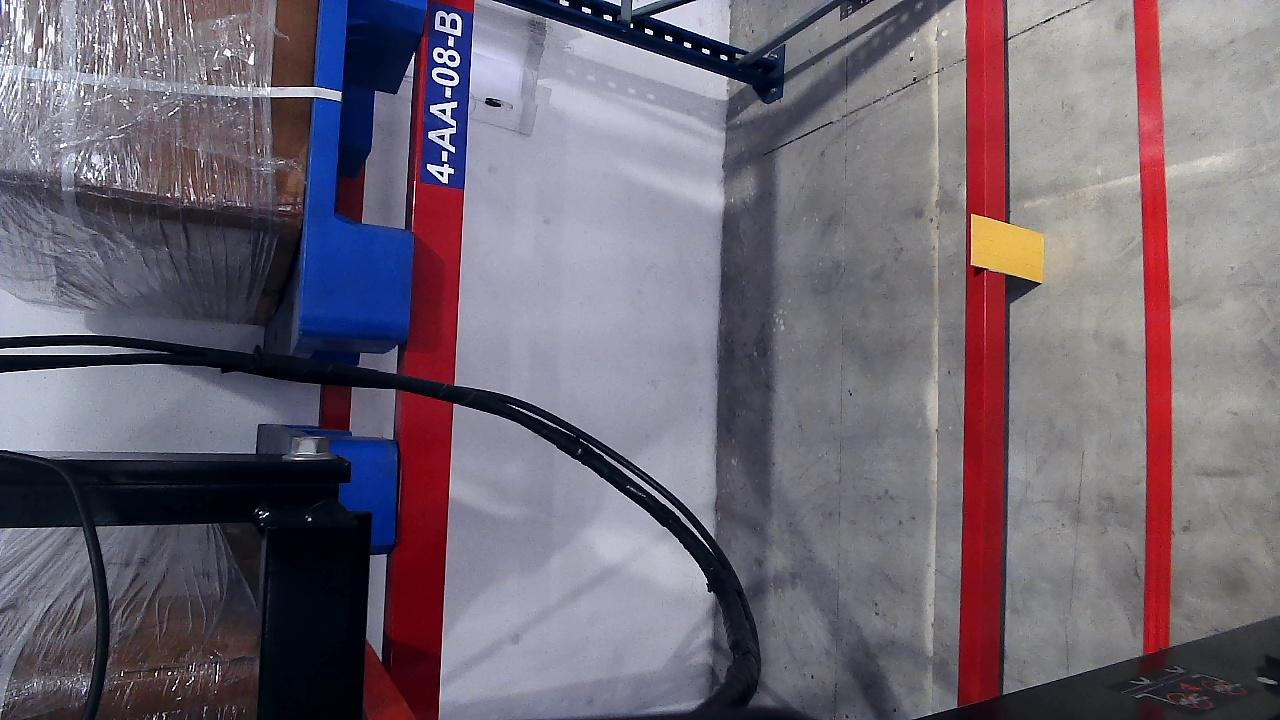h_rack: (424, 0, 467, 719), (963, 1, 1005, 703)
orange_strip: (972, 213, 1042, 282)
red_line: (1129, 0, 1174, 596)
small_pallet: (293, 0, 427, 327)
